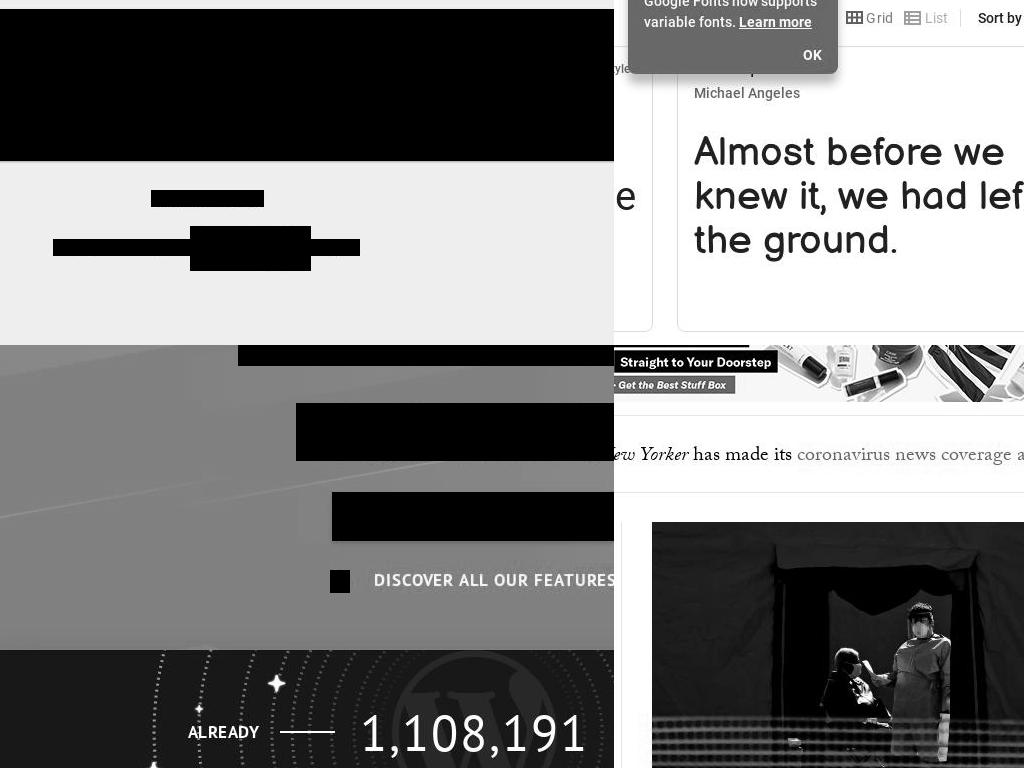button: (678, 47, 1024, 331), (0, 9, 614, 161), (651, 522, 1024, 768), (332, 492, 614, 541), (968, 0, 1024, 36)
heading: (0, 27, 614, 63), (694, 83, 1024, 127), (694, 59, 1024, 79)
iframe: (614, 345, 1024, 402)
image: (651, 522, 1024, 768), (190, 226, 311, 271), (842, 6, 867, 30), (901, 6, 926, 30)
link: (678, 131, 1024, 263), (374, 569, 614, 591), (797, 445, 1024, 466), (151, 190, 264, 207), (739, 14, 812, 30), (803, 47, 822, 63)
text: (259, 689, 614, 768), (296, 403, 614, 461), (0, 83, 614, 104), (238, 345, 614, 366), (0, 114, 468, 130), (357, 502, 558, 531), (644, 0, 817, 30), (693, 445, 797, 466), (187, 721, 260, 743), (53, 239, 146, 256), (614, 445, 688, 466), (799, 0, 835, 36), (310, 239, 360, 256), (146, 239, 192, 256), (977, 10, 1023, 26), (330, 570, 350, 593), (866, 10, 894, 26), (925, 10, 950, 26), (614, 62, 636, 76)
